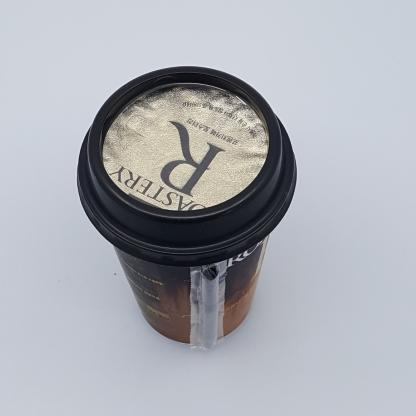--------------------: (77, 66, 298, 350)
